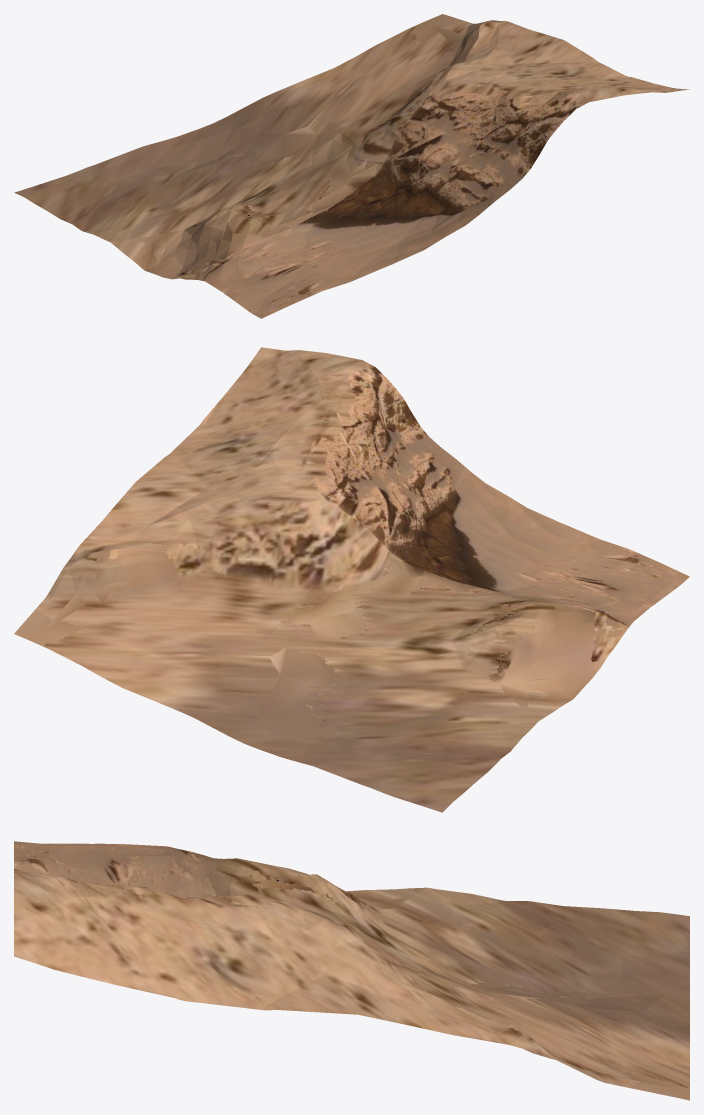
3 views of the same model, one above another, from view 1: azimuth 30°, elevation 25°; view 2: azimuth 150°, elevation 25°; view 3: azimuth 270°, elevation 25° (orthographic). The views are drawn at different scales.
Size of the model in its own units: 1.04 by 0.4462 by 1.04.
Materials: 2 (2 with a texture image).
